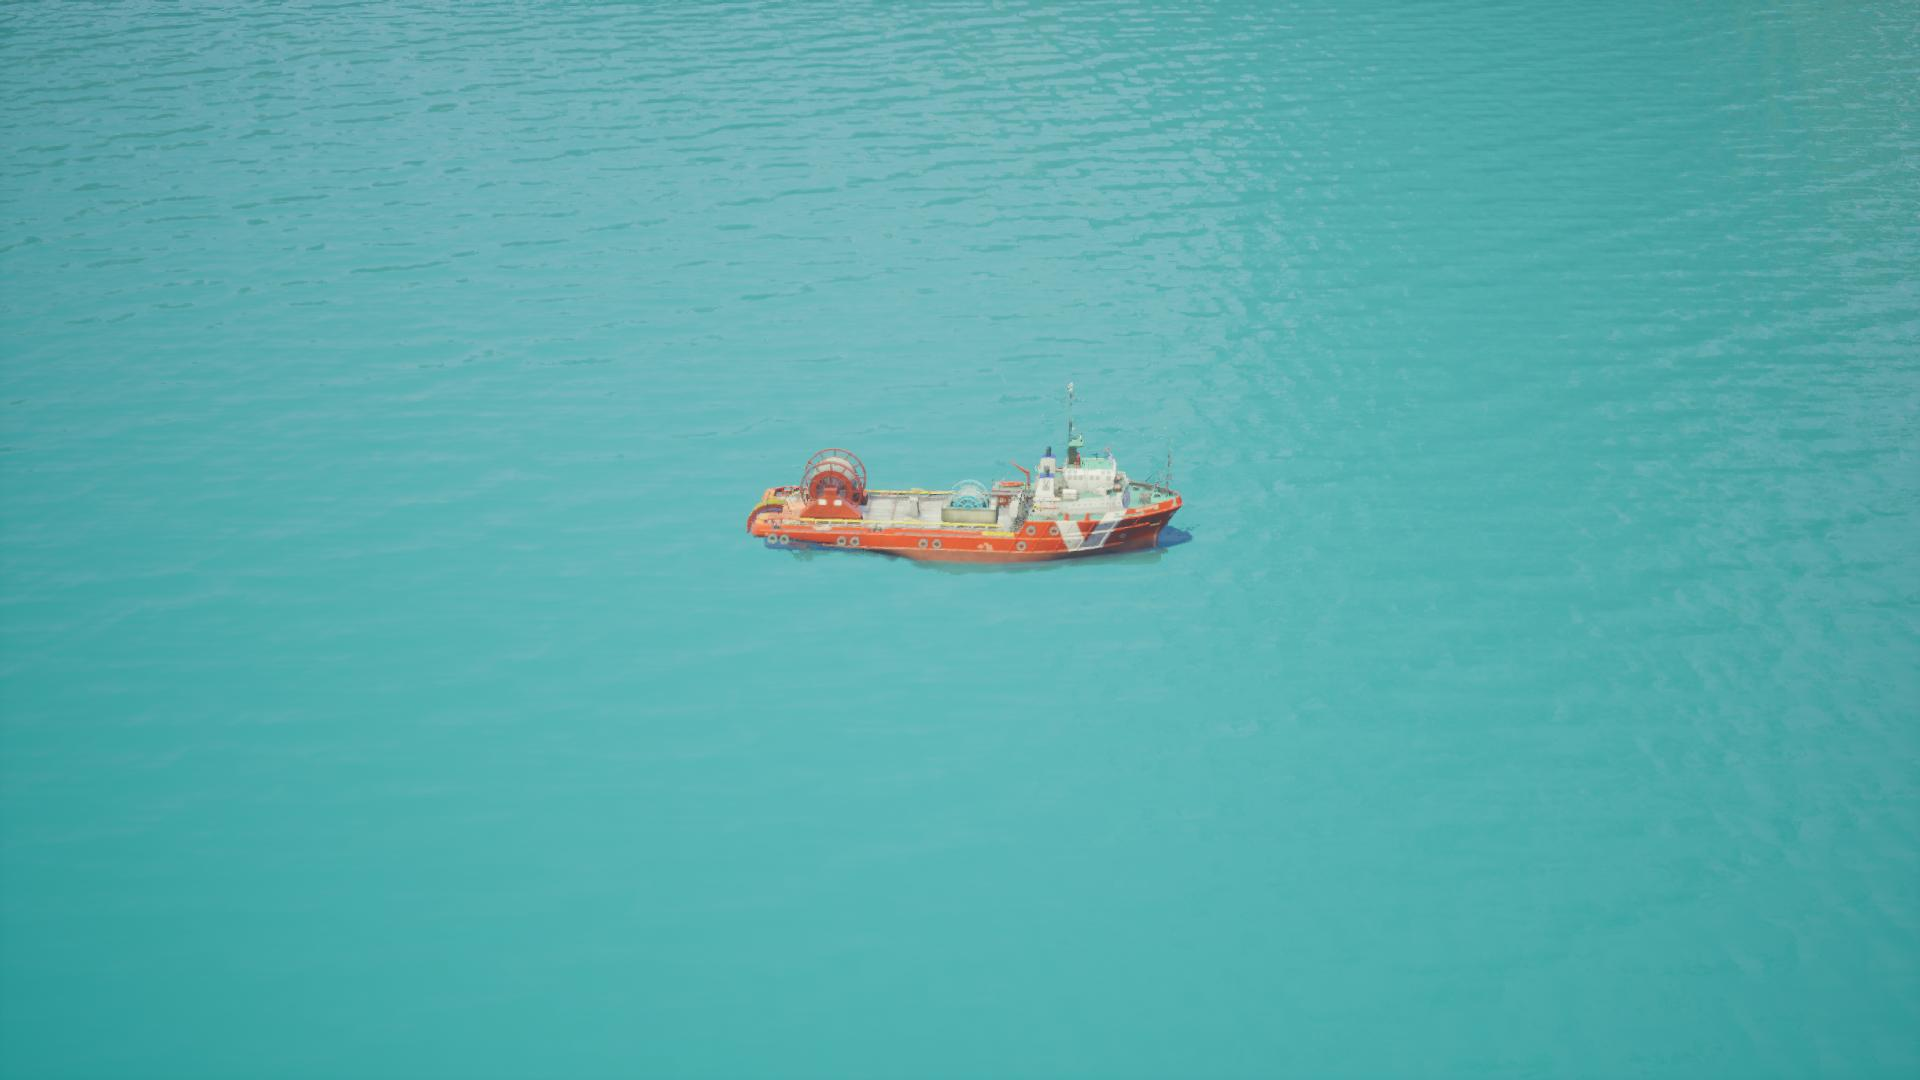Tug Boat: (750, 393, 1189, 567)
